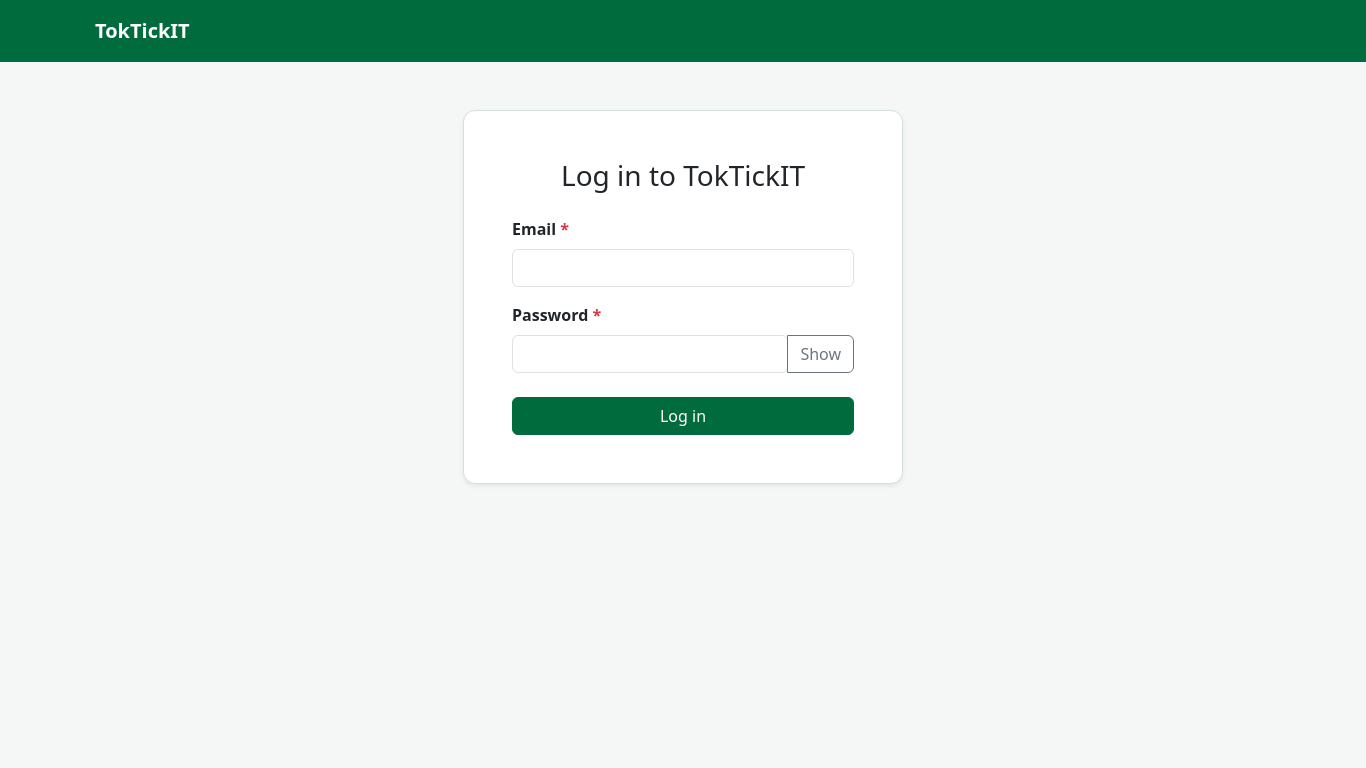
Login › shows a safe message when the server cannot be reached
Type "jennifer.anderson@example.com" into the field labelled "Email *".
click(683, 268); type("jennifer.anderson@example.com")  # box [512,249,854,287]
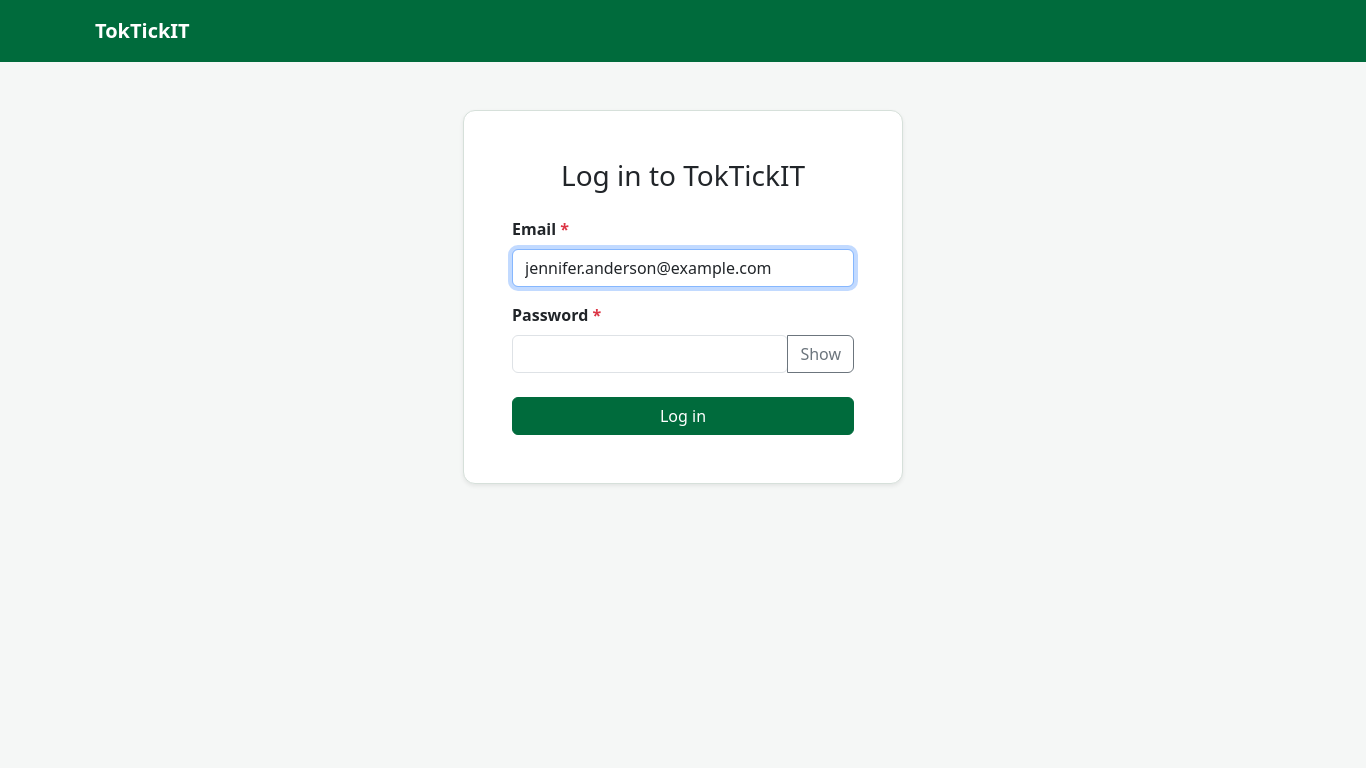
Type "ChangeMe123" into the password field labelled "Password *".
click(650, 354); type("ChangeMe123")  # box [512,335,788,373]
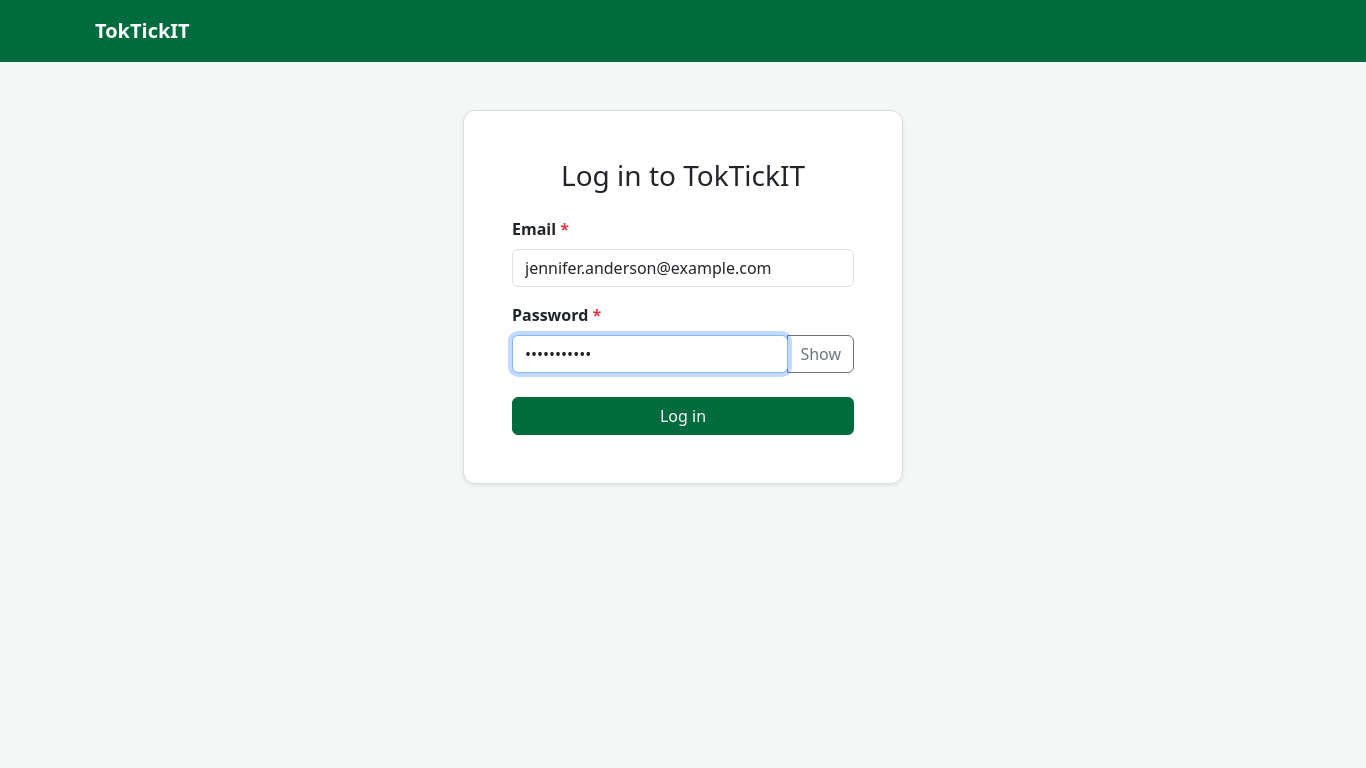
Click the button "Log in".
click(683, 416)  # box [512,397,854,435]
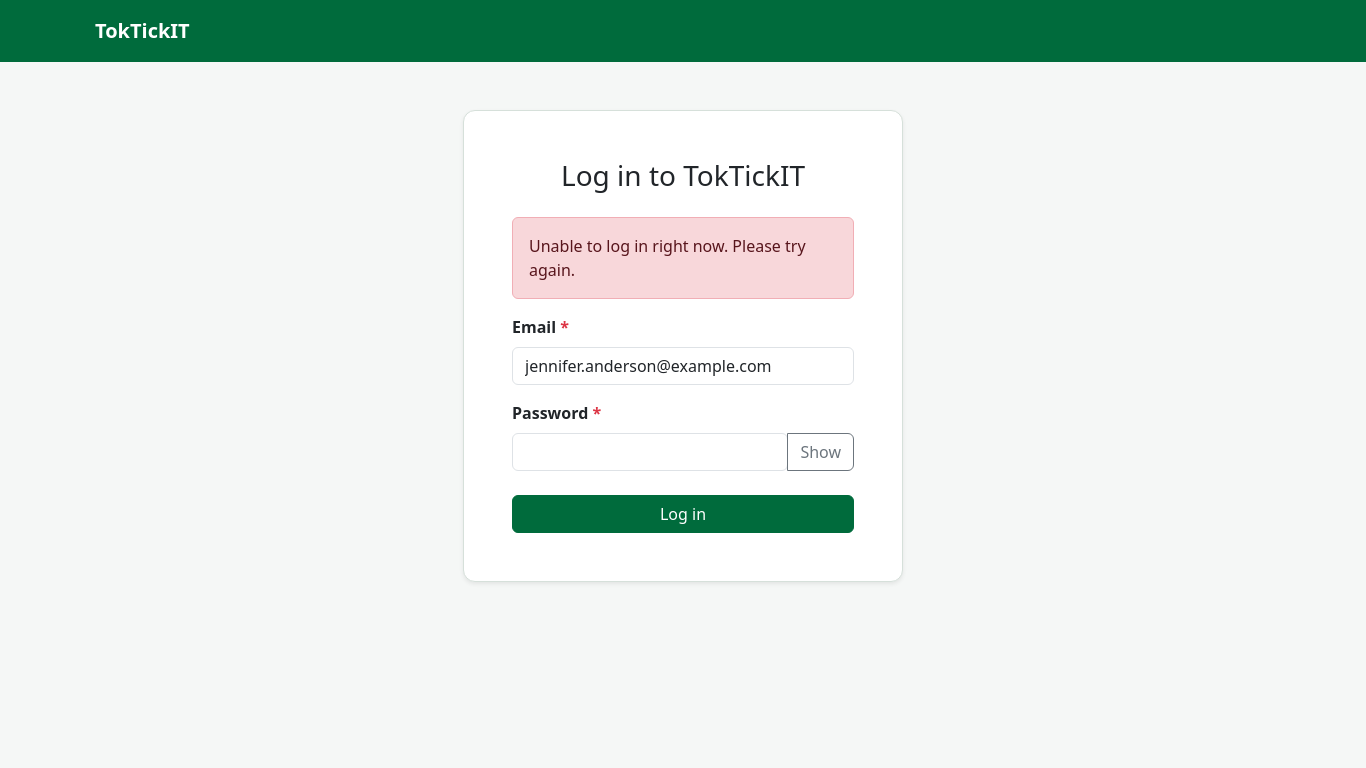
expect the message shows "Unable to log in right now": met, box [529,235,806,281]
